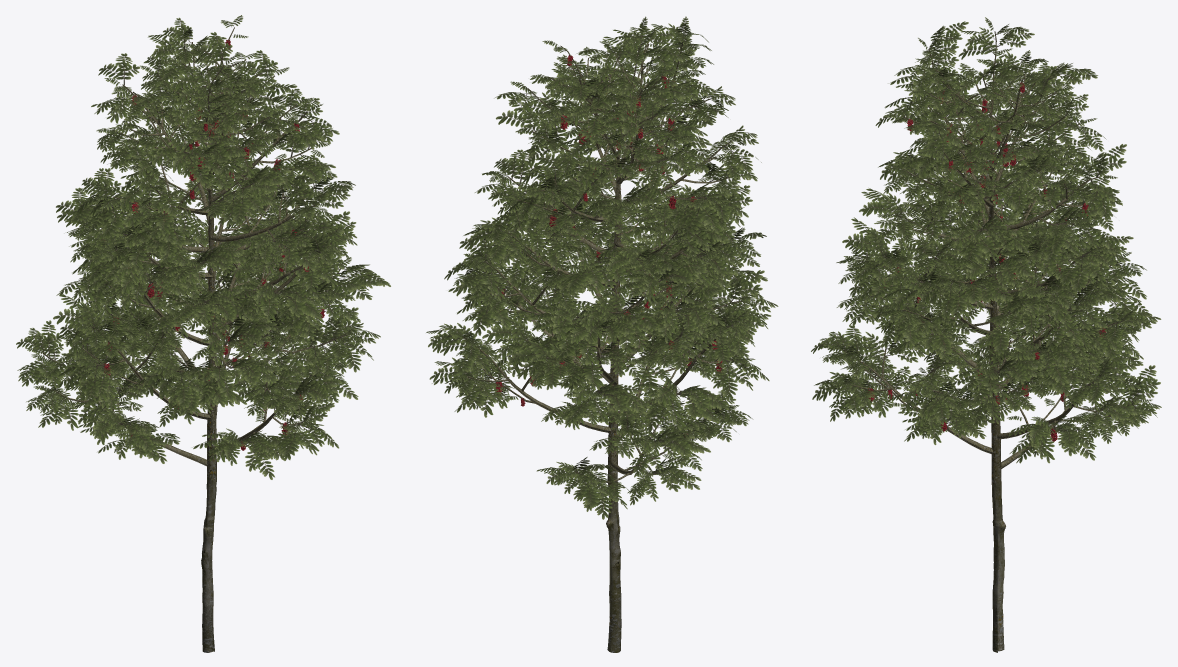
The model's file is sceneDraco.gltf.
The picture shows the model from 3 angles, left to right: view 1: azimuth 30°, elevation 25°; view 2: azimuth 150°, elevation 25°; view 3: azimuth 270°, elevation 25°; orthographic projection. The views are drawn at different scales.
Bounding box in the file's own units: 471 × 900 × 466.
3 materials, 3 textured.
